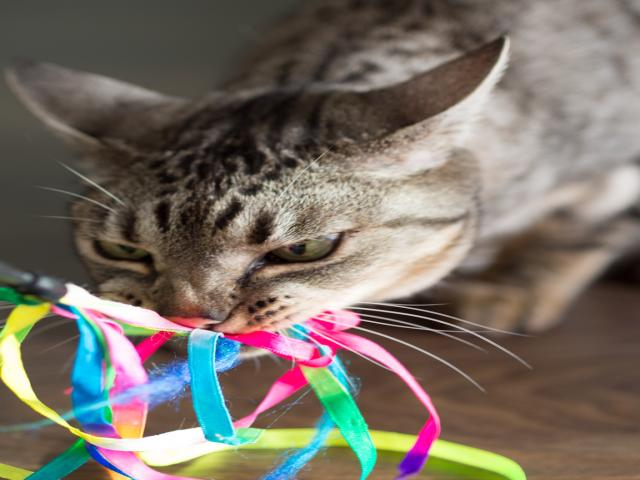Cat: (0, 0, 639, 395)
